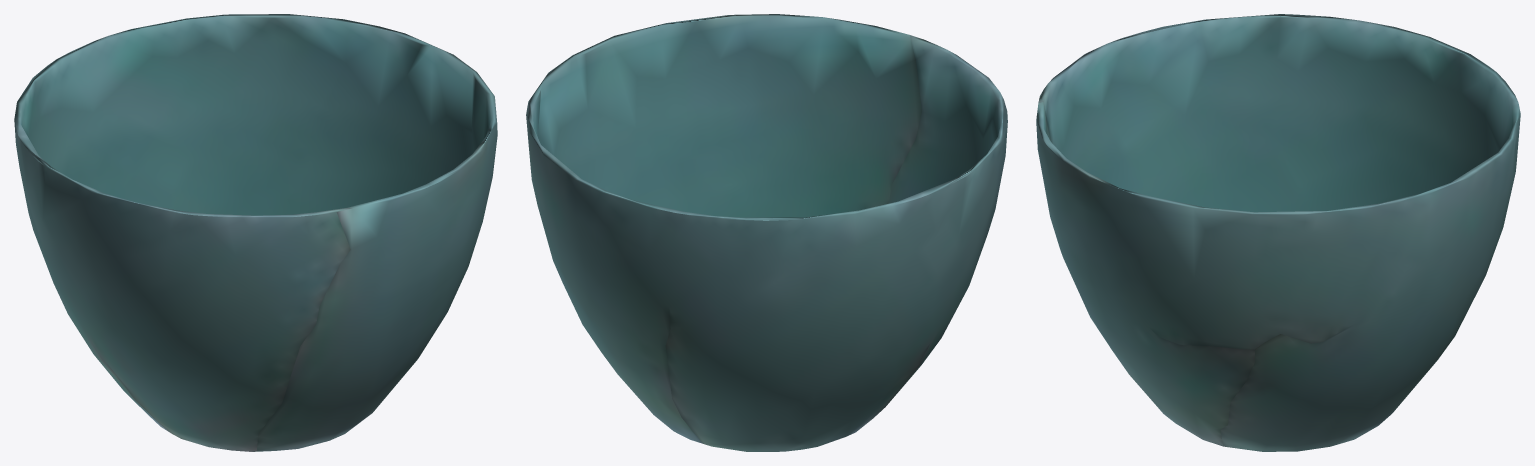
Rendered from Ecoforms_Plant_Bowl_Turquoise_7-medium.glb.
3 renders of one model, left to right at view 1: azimuth 30°, elevation 25°; view 2: azimuth 150°, elevation 25°; view 3: azimuth 270°, elevation 25°, orthographic.
Visible parts, largest first — view 1: Ecoforms_Plant_Bowl_Turquoise_7; view 2: Ecoforms_Plant_Bowl_Turquoise_7; view 3: Ecoforms_Plant_Bowl_Turquoise_7.
Boxes of the visible parts, bbox=[...] form: Ecoforms_Plant_Bowl_Turquoise_7: bbox=[14, 14, 497, 451]; Ecoforms_Plant_Bowl_Turquoise_7: bbox=[526, 14, 1007, 451]; Ecoforms_Plant_Bowl_Turquoise_7: bbox=[1036, 14, 1520, 451].
Size of the model in its own units: 0.1813 by 0.1224 by 0.1819.
Materials: 1 (1 with a texture image).
